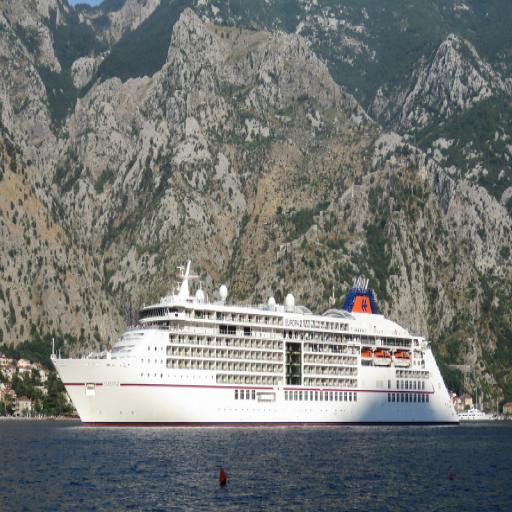cruises: (50, 254, 461, 432)
